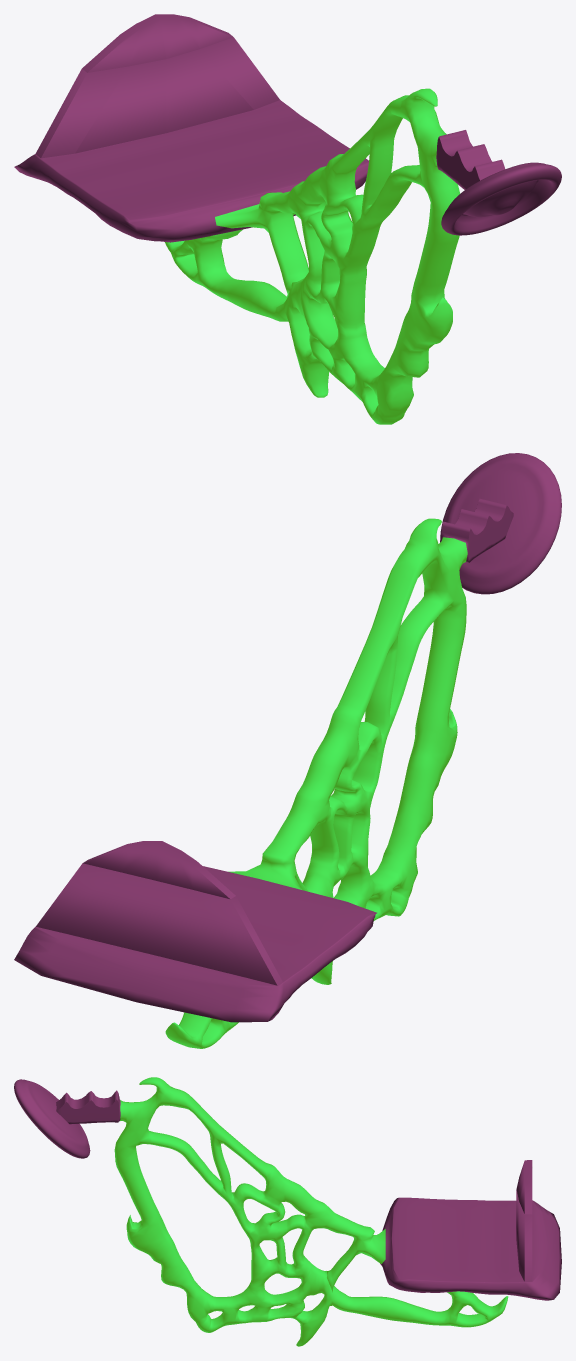
The model's file is Alien on Trike.fbx.
3 renders of one model, top to bottom at view 1: azimuth 30°, elevation 25°; view 2: azimuth 150°, elevation 25°; view 3: azimuth 270°, elevation 25°, orthographic. The views are drawn at different scales.
Parts seen in each view (by area): view 1: polySurface14; view 2: polySurface14; view 3: polySurface14.
Boxes of the visible parts, x1,y1,x2,y2 form: polySurface14: (14,14,561,424); polySurface14: (14,453,561,1048); polySurface14: (14,1077,561,1346).
Bounding box in the file's own units: 2.14 × 3.11 × 5.79.
